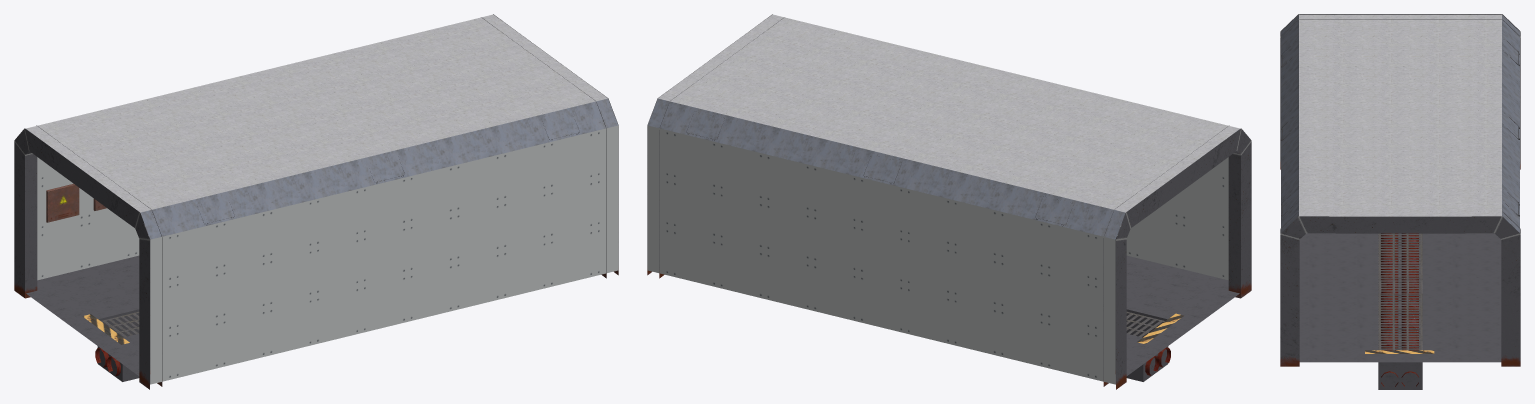
File: starship_section.FBX
The picture shows the model from 3 angles, left to right: view 1: azimuth 30°, elevation 25°; view 2: azimuth 150°, elevation 25°; view 3: azimuth 270°, elevation 25°; orthographic projection. The views are drawn at different scales.
Parts seen in each view (by area): view 1: Tonnel; view 2: Tonnel; view 3: Tonnel.
Boxes of the visible parts, <box> form: Tonnel: <box>14,14,618,389</box>; Tonnel: <box>647,14,1251,389</box>; Tonnel: <box>1280,14,1520,389</box>.
Bounding box in the file's own units: 4.88 × 2.08 × 2.45.
10 materials, 10 textured.
